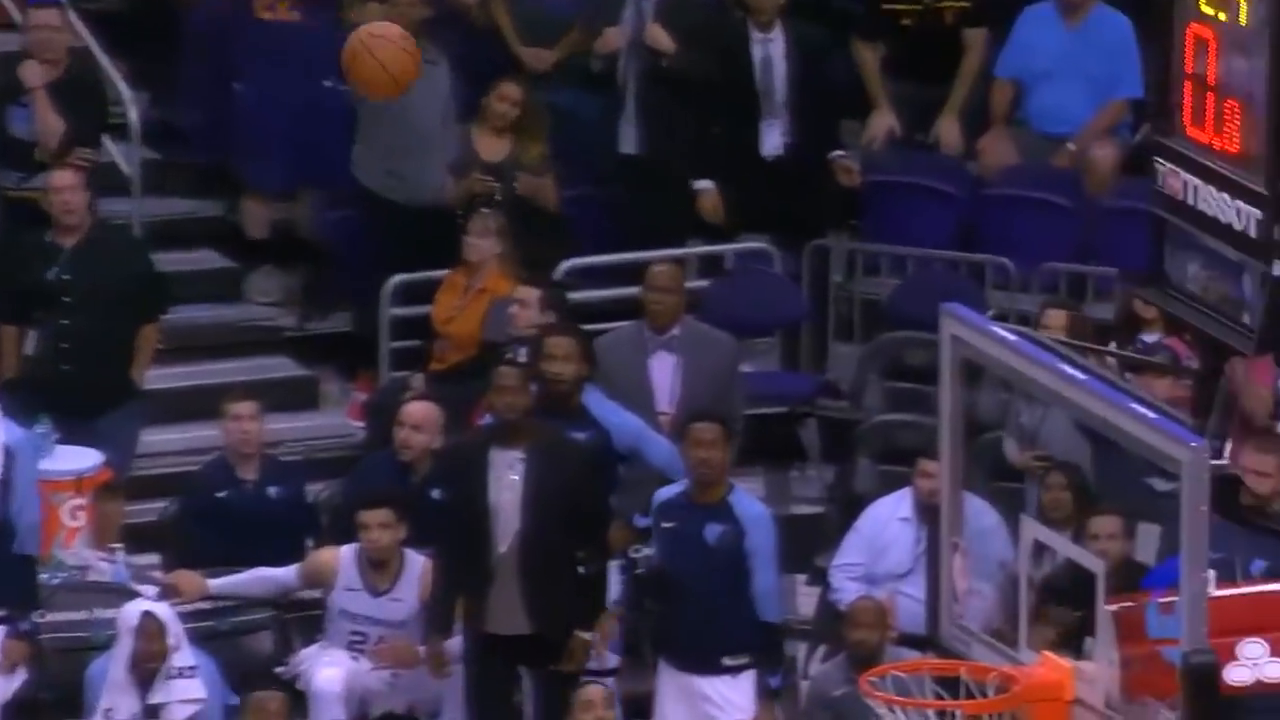ball: (339, 23, 425, 98)
